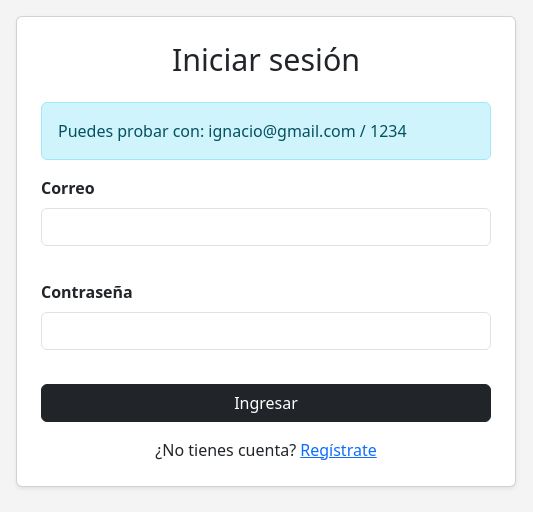
Test: Página de Login › muestra error si el correo está vacío
The width and height of the screenshot is (533, 512).
Click the button "Ingresar" at coordinates (266, 402), box [41,384,491,422]
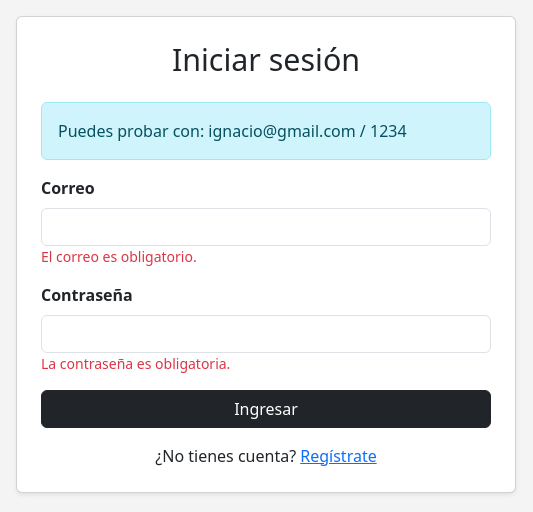
Expected: the text "El correo es obligatorio." is shown, [41,246,197,266]
